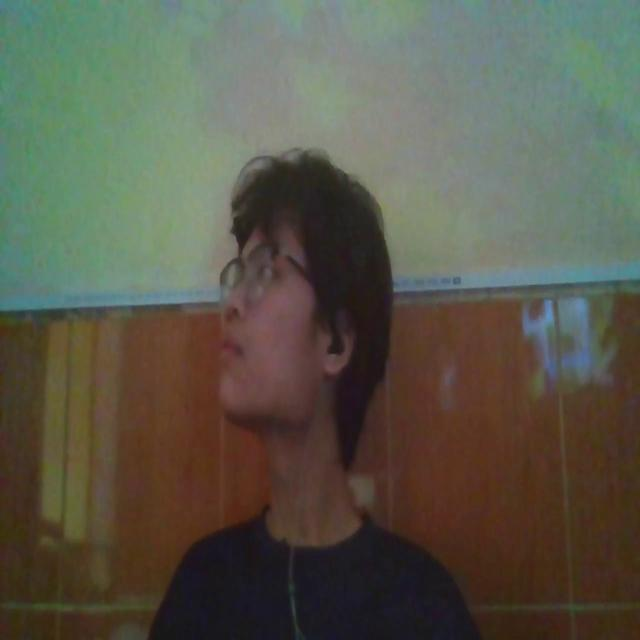student: (130, 148, 477, 640)
